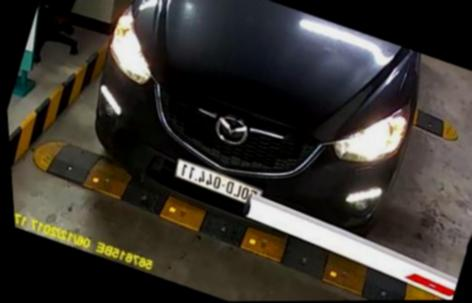License_Plate: (152, 158, 278, 217)
